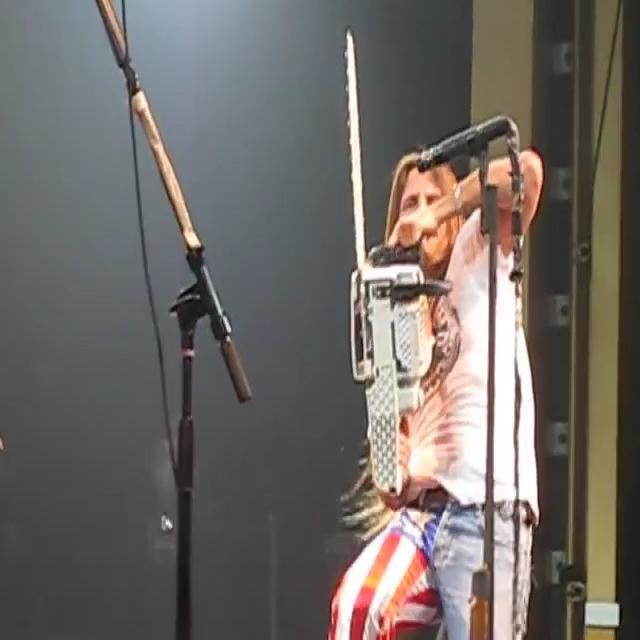Chainsaw: (312, 22, 456, 504)
